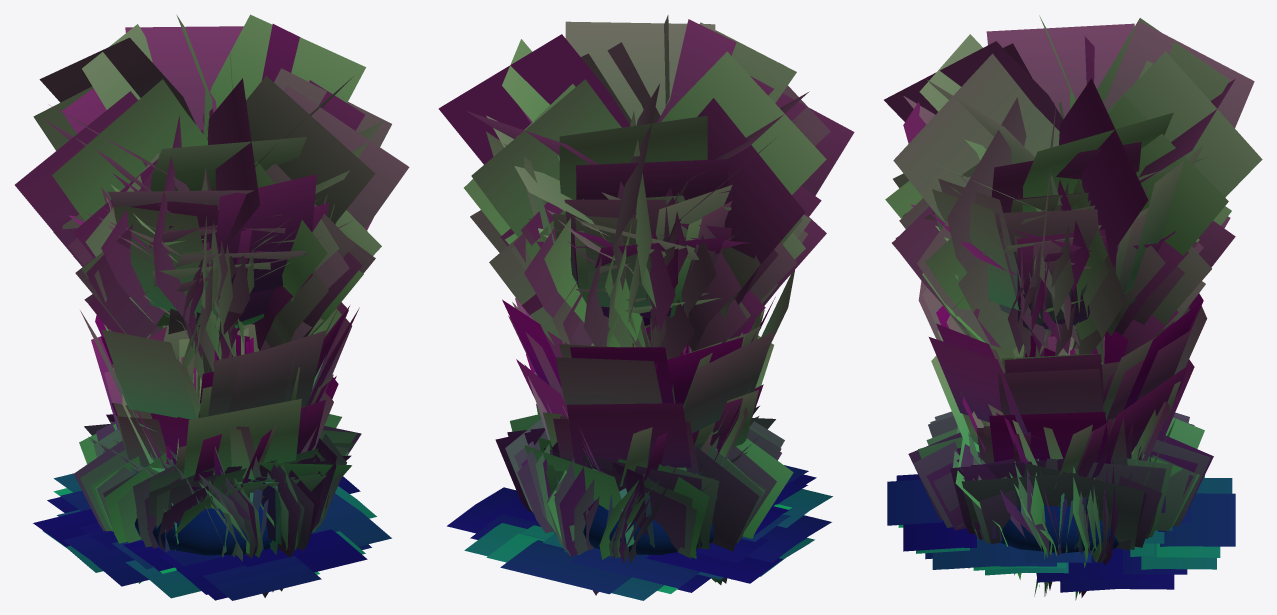
File: ornamental_gardens.glb
3 views of the same model, side by side, from view 1: azimuth 30°, elevation 25°; view 2: azimuth 150°, elevation 25°; view 3: azimuth 270°, elevation 25° (orthographic).
Visible parts, largest first — view 1: pomegranate_ornamental_mature_08_LOD0, pomegranate_ornamental_mature_04_LOD0, terracotta_planter_mature_03_LOD0, terracotta_planter_mature_08_LOD0, pomegranate_ornamental_mature_05_LOD0, terracotta_planter_mature_11_LOD0, terracotta_planter_mature_12_LOD0, terracotta_planter_mature_02_LOD0, pomegranate_ornamental_mature_10_LOD0, myrtle_lily_mature_07_LOD0, lotus_cyperus_mature_07_LOD0, myrtle_lily_mature_08_LOD0 (+27 smaller); view 2: pomegranate_ornamental_mature_08_LOD0, pomegranate_ornamental_mature_04_LOD0, terracotta_planter_mature_04_LOD0, terracotta_planter_mature_11_LOD0, myrtle_lily_mature_08_LOD0, myrtle_lily_mature_07_LOD0, lotus_cyperus_mature_05_LOD0, pomegranate_ornamental_mature_03_LOD0, pomegranate_ornamental_mature_01_LOD0, pomegranate_ornamental_mature_05_LOD0, terracotta_planter_mature_08_LOD0, terracotta_planter_mature_12_LOD0 (+23 smaller); view 3: pomegranate_ornamental_mature_08_LOD0, pomegranate_ornamental_mature_04_LOD0, terracotta_planter_mature_04_LOD0, terracotta_planter_mature_11_LOD0, myrtle_lily_mature_07_LOD0, pomegranate_ornamental_mature_01_LOD0, terracotta_planter_mature_08_LOD0, myrtle_lily_mature_10_LOD0, myrtle_lily_mature_08_LOD0, pomegranate_ornamental_mature_05_LOD0, pomegranate_ornamental_mature_11_LOD0, terracotta_planter_mature_12_LOD0 (+30 smaller).
Boxes of the visible parts, bbox=[...] form: pomegranate_ornamental_mature_08_LOD0: bbox=[39, 14, 375, 249]; pomegranate_ornamental_mature_04_LOD0: bbox=[15, 49, 409, 323]; terracotta_planter_mature_03_LOD0: bbox=[101, 306, 349, 419]; terracotta_planter_mature_08_LOD0: bbox=[130, 174, 327, 292]; pomegranate_ornamental_mature_05_LOD0: bbox=[53, 208, 362, 359]; terracotta_planter_mature_11_LOD0: bbox=[91, 336, 338, 482]; terracotta_planter_mature_12_LOD0: bbox=[117, 375, 332, 555]; terracotta_planter_mature_02_LOD0: bbox=[95, 302, 348, 412]; pomegranate_ornamental_mature_10_LOD0: bbox=[101, 108, 327, 330]; myrtle_lily_mature_07_LOD0: bbox=[96, 355, 361, 597]; lotus_cyperus_mature_07_LOD0: bbox=[42, 488, 391, 600]; myrtle_lily_mature_08_LOD0: bbox=[74, 352, 357, 591]; pomegranate_ornamental_mature_08_LOD0: bbox=[438, 15, 826, 290]; pomegranate_ornamental_mature_04_LOD0: bbox=[464, 42, 854, 307]; terracotta_planter_mature_04_LOD0: bbox=[508, 298, 774, 436]; terracotta_planter_mature_11_LOD0: bbox=[516, 335, 773, 467]; myrtle_lily_mature_08_LOD0: bbox=[495, 353, 784, 595]; myrtle_lily_mature_07_LOD0: bbox=[505, 404, 793, 579]; lotus_cyperus_mature_05_LOD0: bbox=[500, 514, 807, 594]; pomegranate_ornamental_mature_03_LOD0: bbox=[510, 219, 808, 358]; pomegranate_ornamental_mature_01_LOD0: bbox=[470, 210, 796, 346]; pomegranate_ornamental_mature_05_LOD0: bbox=[500, 197, 826, 346]; terracotta_planter_mature_08_LOD0: bbox=[486, 131, 732, 299]; terracotta_planter_mature_12_LOD0: bbox=[540, 390, 758, 554]; pomegranate_ornamental_mature_08_LOD0: bbox=[884, 15, 1262, 271]; pomegranate_ornamental_mature_04_LOD0: bbox=[903, 36, 1228, 314]; terracotta_planter_mature_04_LOD0: bbox=[929, 306, 1207, 437]; terracotta_planter_mature_11_LOD0: bbox=[931, 355, 1194, 478]; myrtle_lily_mature_07_LOD0: bbox=[908, 411, 1210, 600]; pomegranate_ornamental_mature_01_LOD0: bbox=[892, 216, 1230, 363]; terracotta_planter_mature_08_LOD0: bbox=[903, 102, 1203, 295]; myrtle_lily_mature_10_LOD0: bbox=[913, 335, 1194, 596]; myrtle_lily_mature_08_LOD0: bbox=[918, 348, 1213, 597]; pomegranate_ornamental_mature_05_LOD0: bbox=[892, 173, 1197, 349]; pomegranate_ornamental_mature_11_LOD0: bbox=[910, 195, 1199, 347]; terracotta_planter_mature_12_LOD0: bbox=[972, 381, 1180, 553].
Size of what is drawn, in the model's own units: 1.88 by 2.66 by 1.77.
